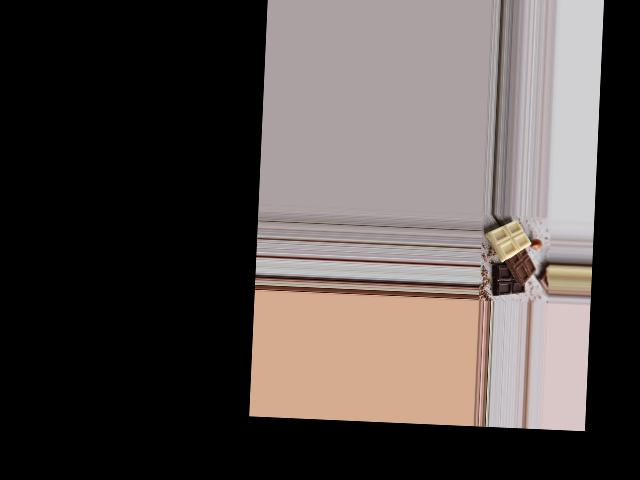chocolate: (487, 219, 538, 301)
